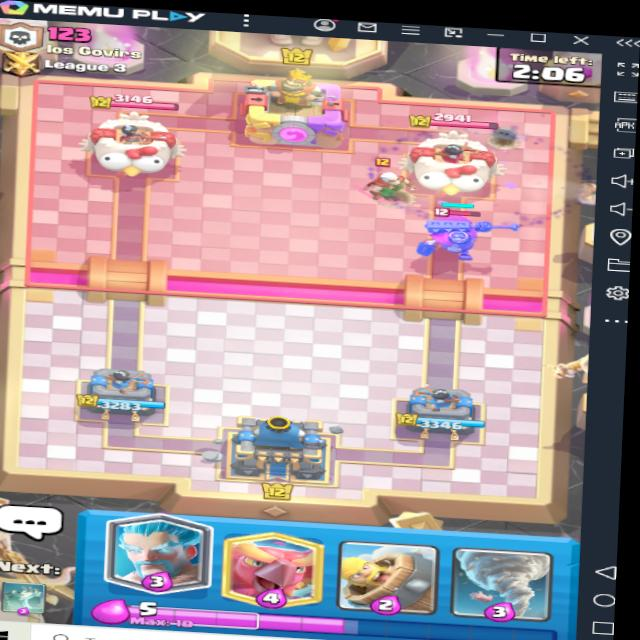Marcher: (354, 151, 416, 208)
skellyking: (415, 201, 503, 274)
